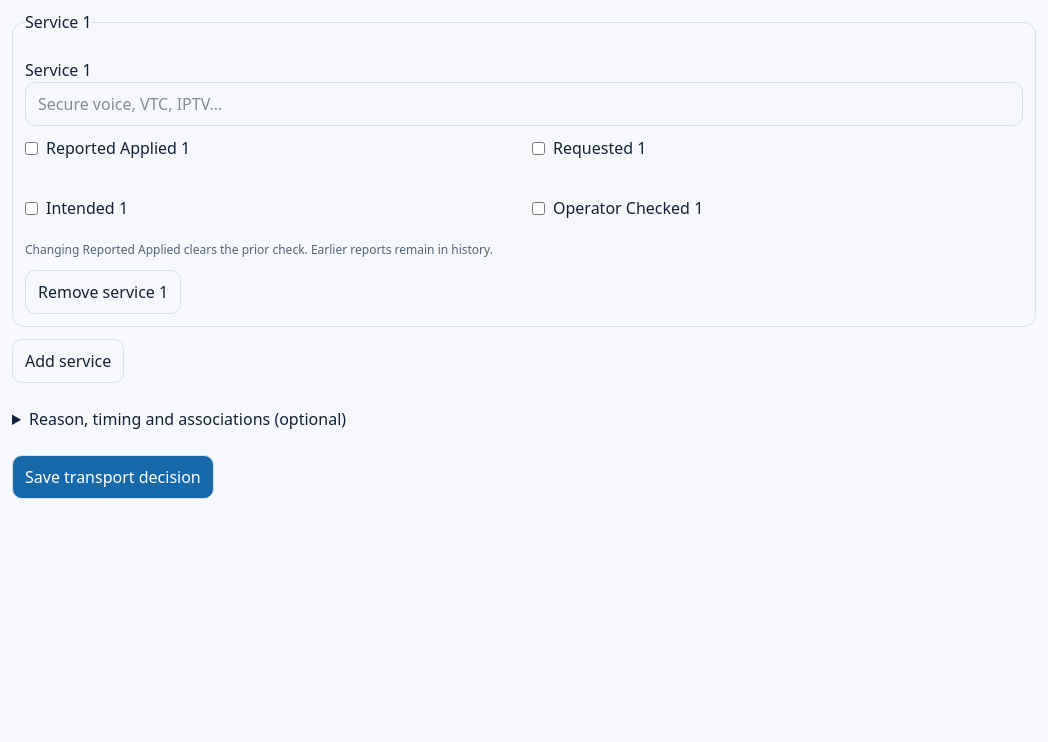
Test: retains an unresolved saved association instead of silently clearing it
Click the heading "Reason, timing and associations (optional)" at (187, 419), box left=29, top=408, right=346, bottom=430
(page scrolled)
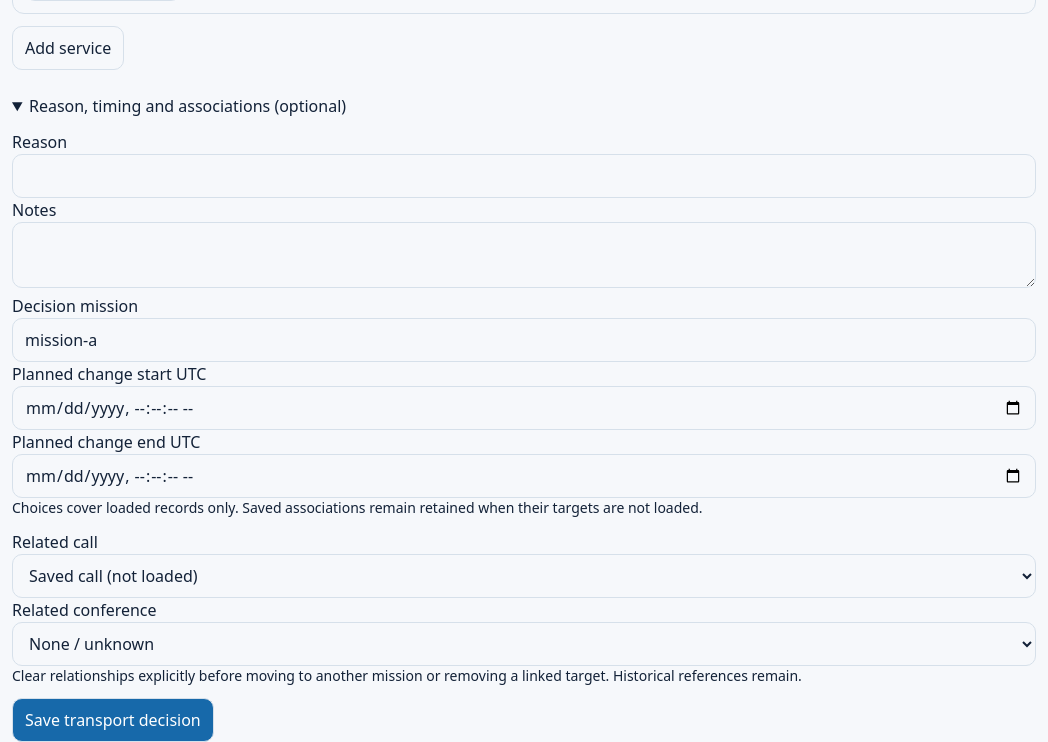
Expected: the dropdown labelled "Related call" shows "Saved call (not loaded)", left=12, top=554, right=1036, bottom=598
Expected: the text "Choices cover loaded records only" is shown, left=12, top=498, right=703, bottom=517
